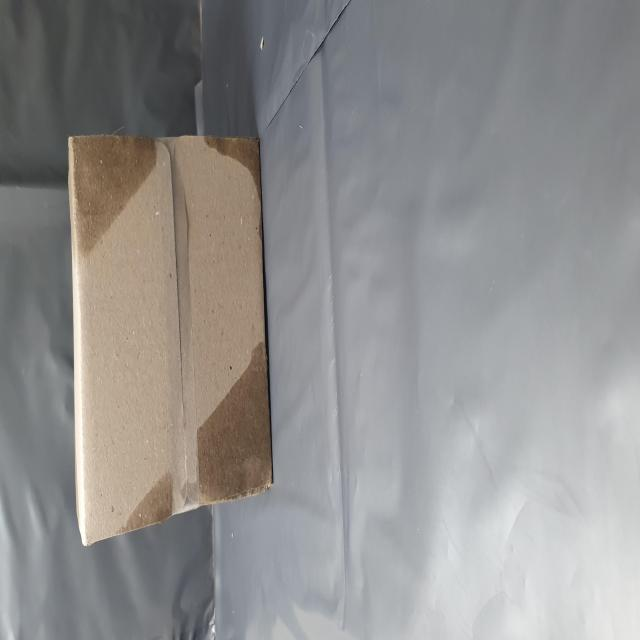wet: (56, 203, 161, 483), (202, 130, 286, 279)
